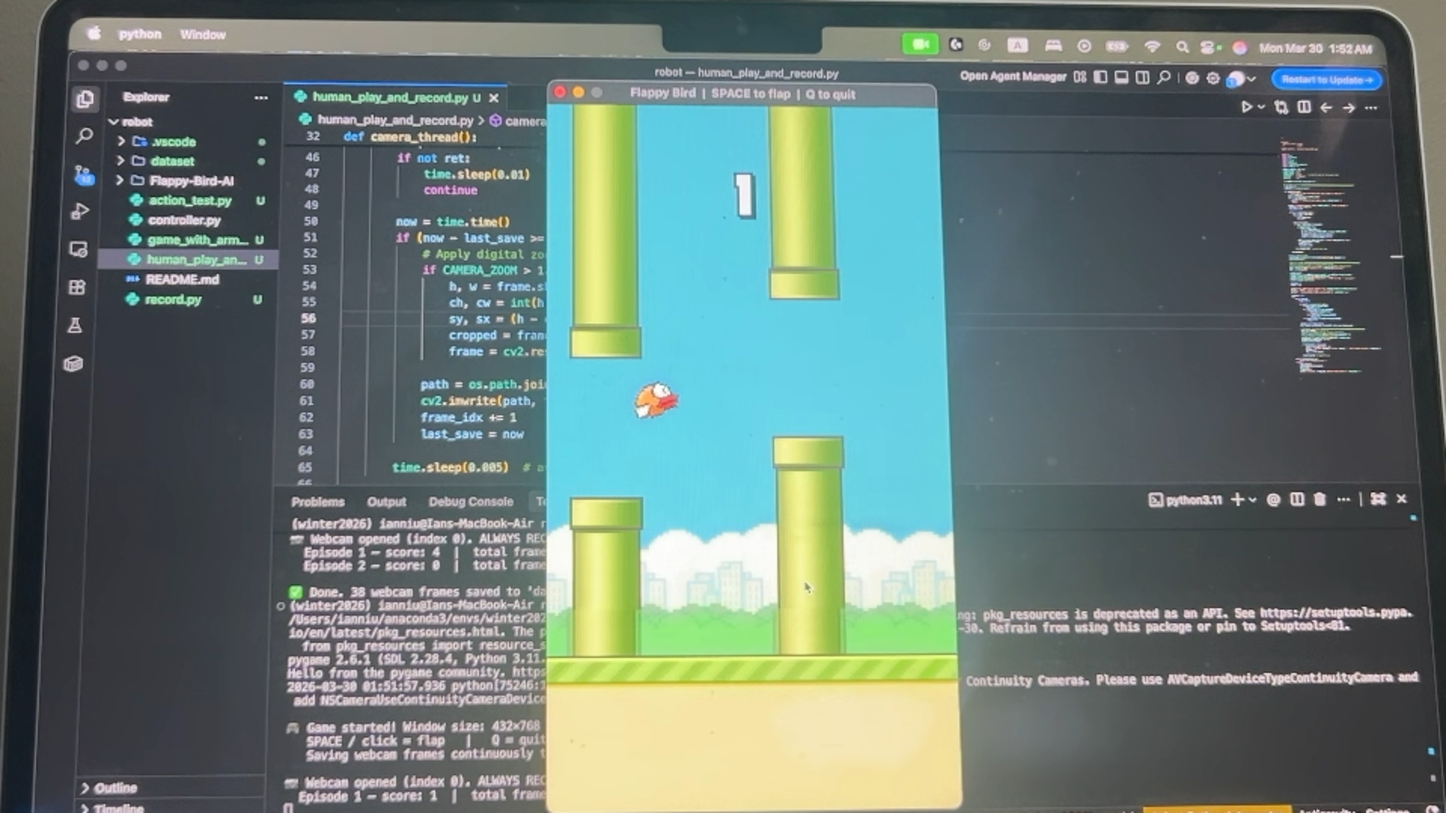bird: (635, 380, 677, 424)
green pipes: (572, 107, 642, 358), (776, 438, 846, 657), (767, 107, 840, 297), (569, 497, 642, 657)
